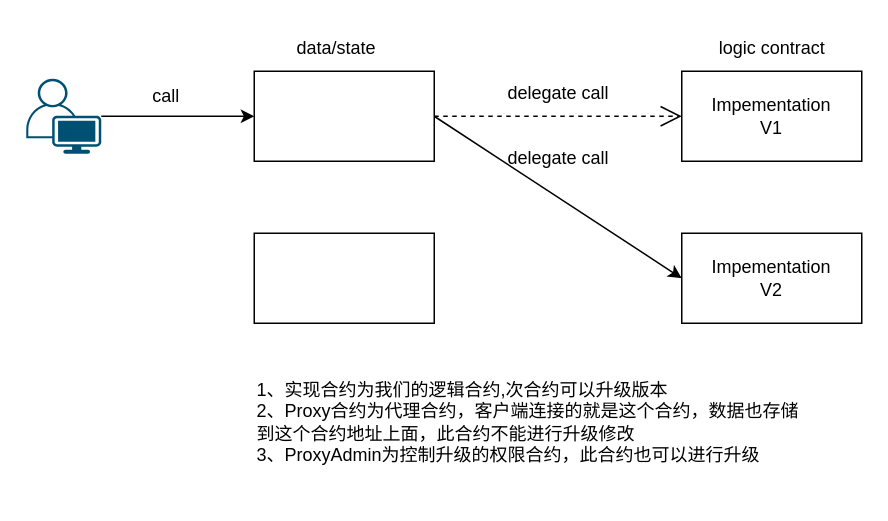
The diagram is 888 pixels wide and 521 high, and some of its shapes have lost their labels. The shapes that lost their labels are listed below. From the top down, each one's box as (x1, y1, x2, y2) in pixels, then its label:
(253, 70, 434, 161): Proxy
(253, 232, 434, 323): ProxyAdmin
